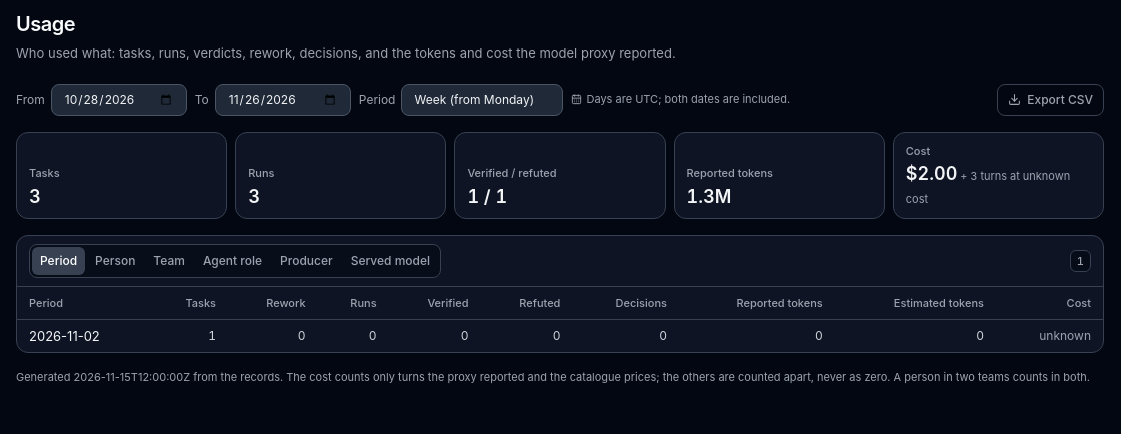
Test: Usage › opens to a viewer a team makes a manager, and never shows an unknown cost as zero
Expected: the text "$2.00" is shown, [906, 163, 957, 184]
Expected: the text "+ 3 turns at unknown cost" is shown, [906, 169, 1070, 206]
Click the tab "Person" at x=115, y=261, box [87, 247, 143, 275]
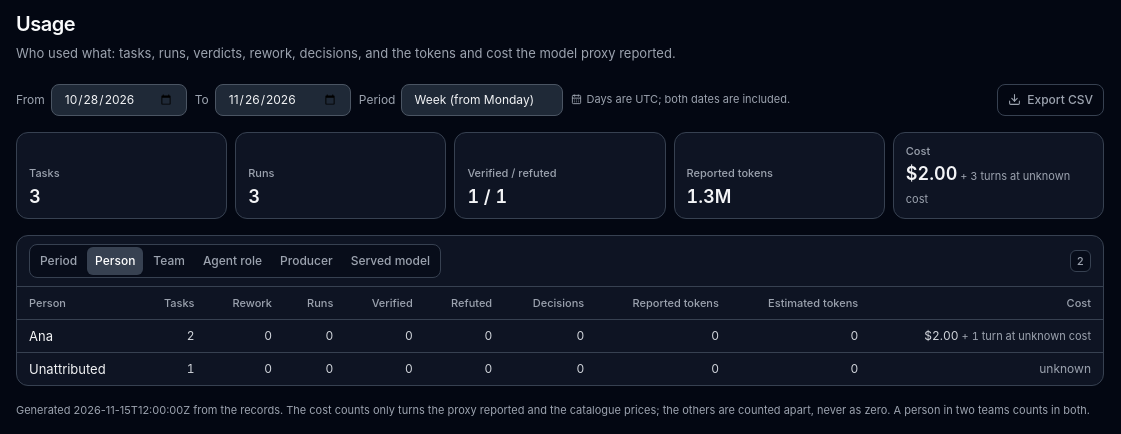
Expected: the text "unknown" is shown, [1039, 361, 1091, 376]
Expected: the text "Ana" is shown, [17, 320, 140, 352]
